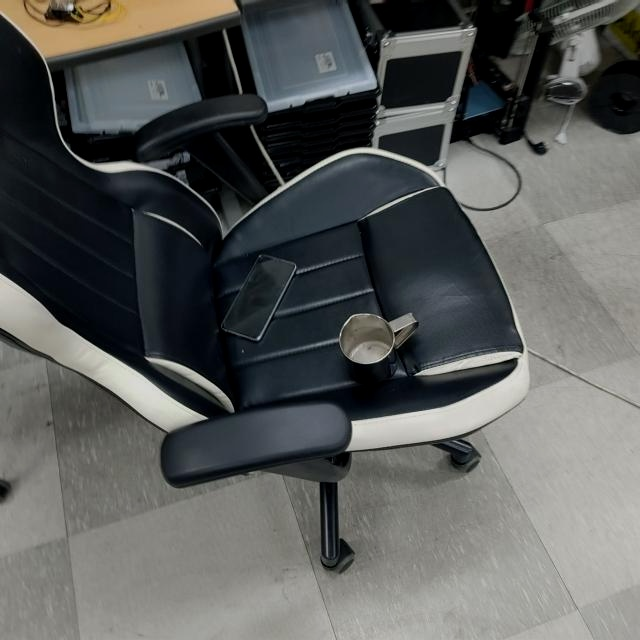cup: (340, 310, 420, 386)
phone: (219, 251, 298, 344)
